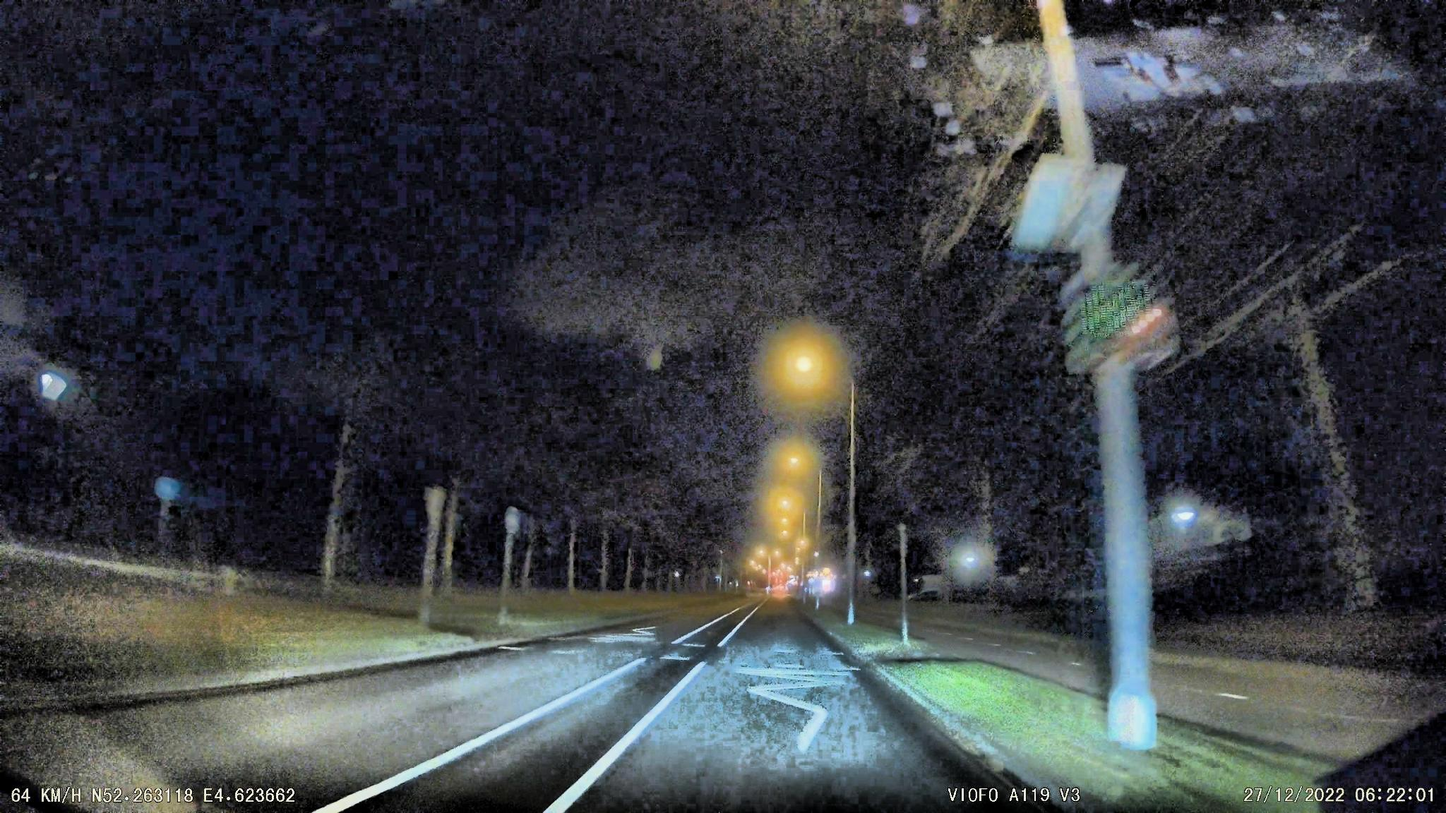Roads: (31, 607, 967, 813)
